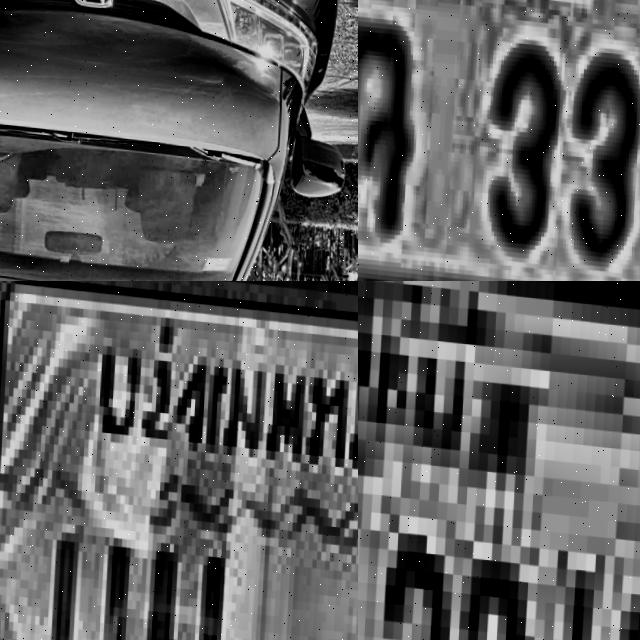license-plate: (0, 281, 358, 640), (358, 281, 640, 640), (358, 0, 640, 281)
